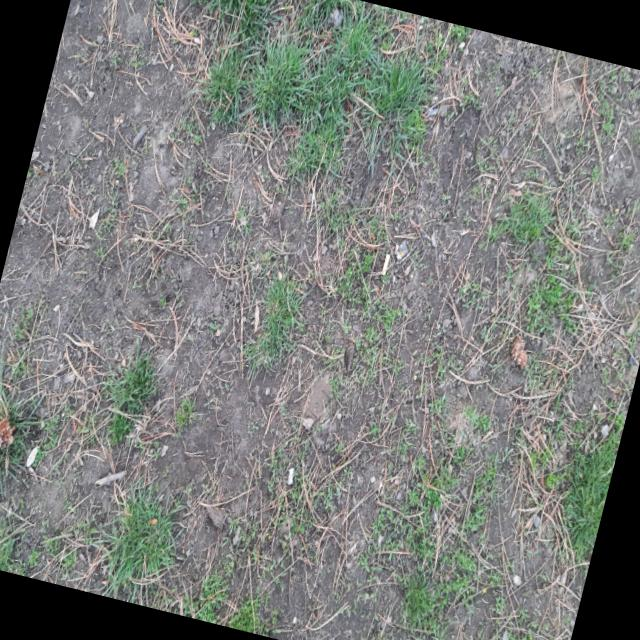grass: (191, 0, 446, 238), (64, 475, 269, 637), (393, 457, 478, 640), (546, 416, 623, 559), (79, 348, 160, 461), (0, 353, 60, 498), (238, 250, 306, 374), (336, 246, 398, 363), (521, 241, 575, 336), (490, 192, 554, 246), (0, 515, 41, 577)
sand: (0, 0, 640, 640)
